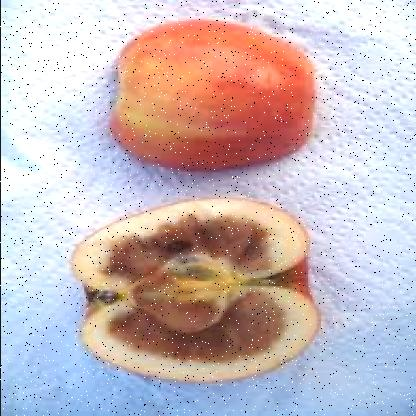apple: (100, 18, 322, 170)
damaged_apple: (66, 195, 328, 382)
